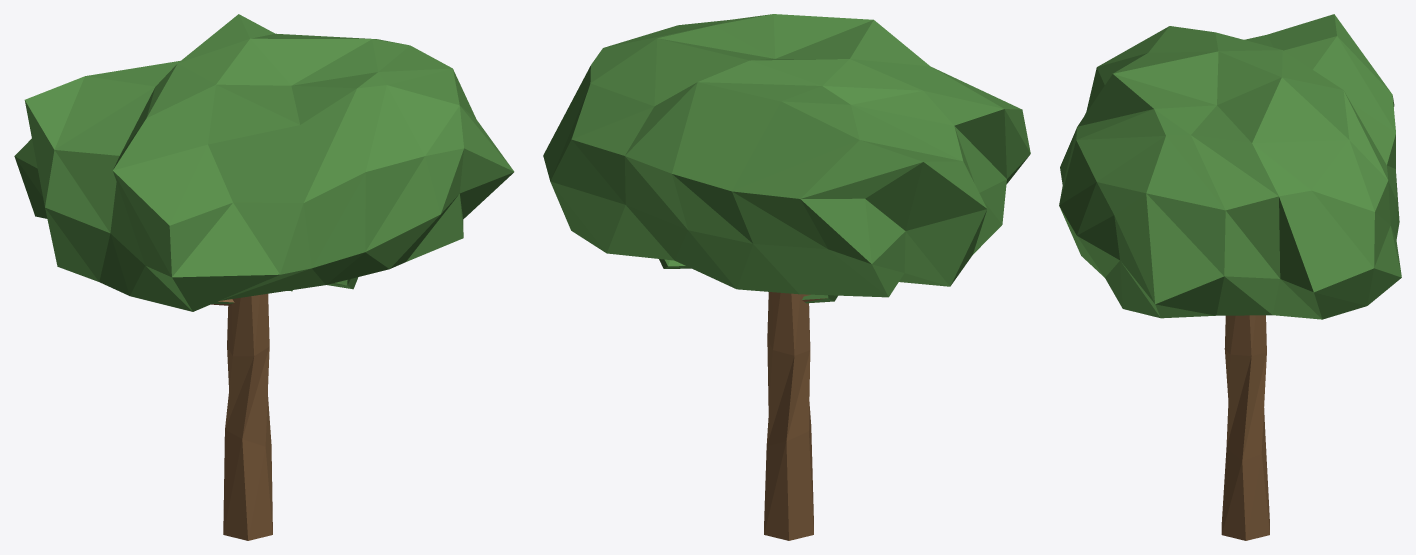
File: tree3d-051.glb
3 views of the same model, side by side, from view 1: azimuth 30°, elevation 25°; view 2: azimuth 150°, elevation 25°; view 3: azimuth 270°, elevation 25° (orthographic). The views are drawn at different scales.
Visible parts, largest first — view 1: tree3d-051; view 2: tree3d-051; view 3: tree3d-051.
Boxes of the visible parts, left/top/right/bottom form: tree3d-051: left=14, top=14, right=514, bottom=540; tree3d-051: left=543, top=14, right=1030, bottom=540; tree3d-051: left=1059, top=14, right=1401, bottom=540.
Size of the model in its own units: 0.9313 by 1 by 0.6732.
